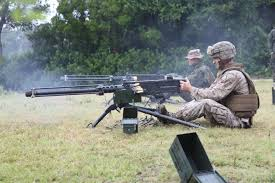gun: (21, 75, 206, 131)
